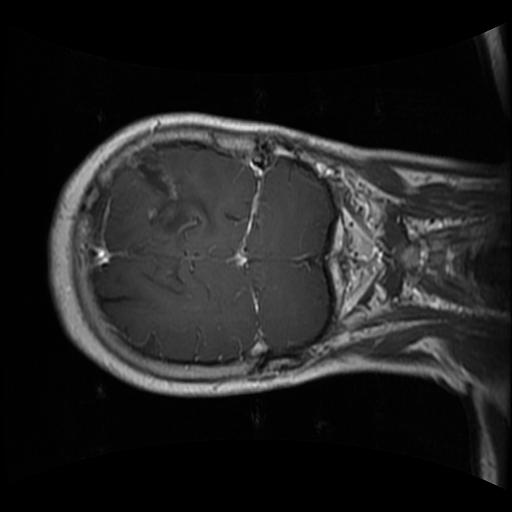glioma: (124, 146, 212, 247)
